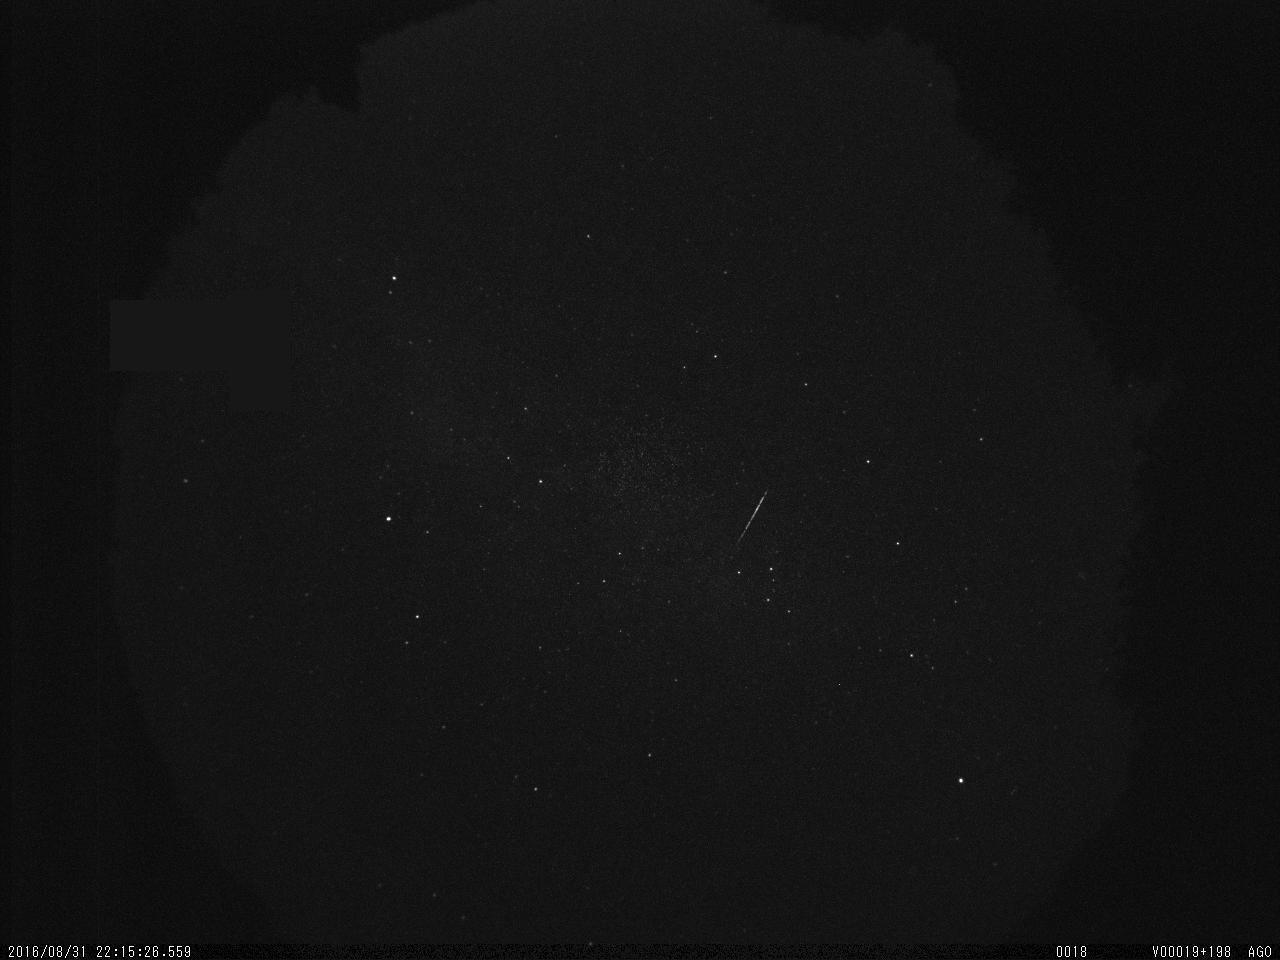meteor: (727, 481, 781, 558)
